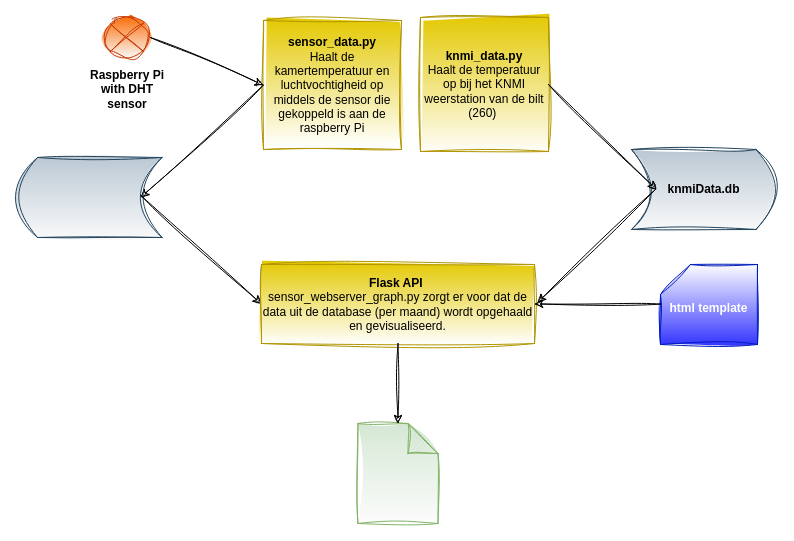
This 794x541 diagram has some shape labels left out. The shapes that lost their labels are listed below. From the top down, each one's centre as x and y in pixels, then its label:
point (89, 197): sensorData.db
point (397, 473): Website
